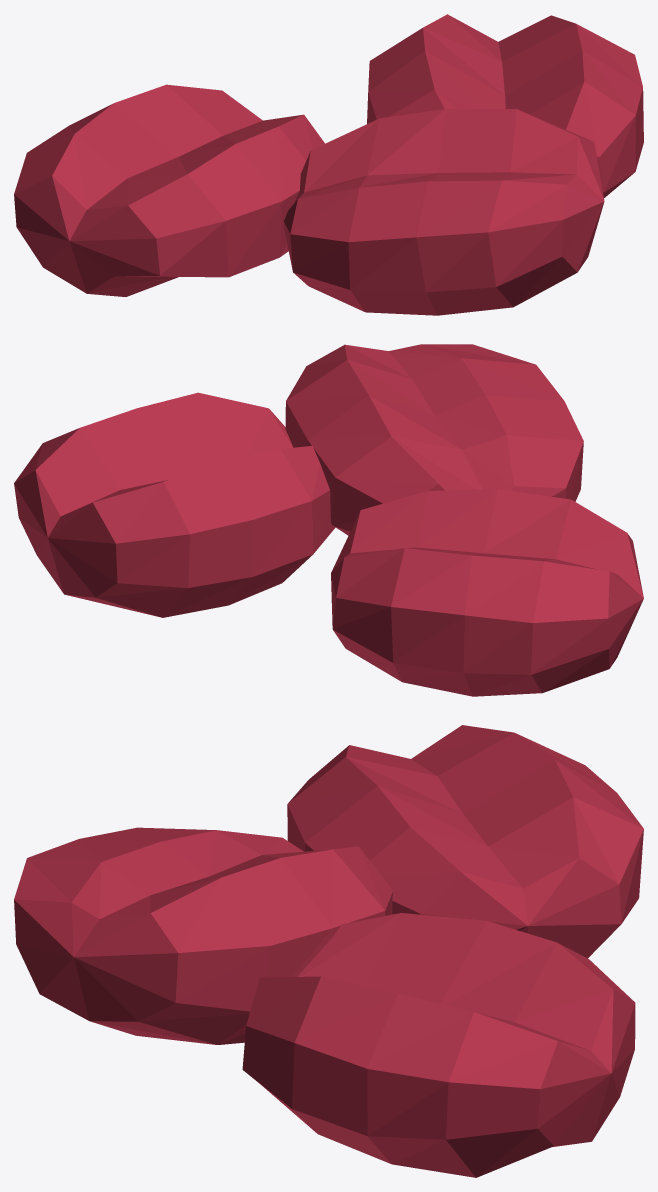
Rendered from cranberry.glb.
3 views of the same model, one above another, from view 1: azimuth 30°, elevation 25°; view 2: azimuth 150°, elevation 25°; view 3: azimuth 270°, elevation 25° (orthographic). The views are drawn at different scales.
Bounding box in the file's own units: 2.92 × 0.8605 × 2.22.
